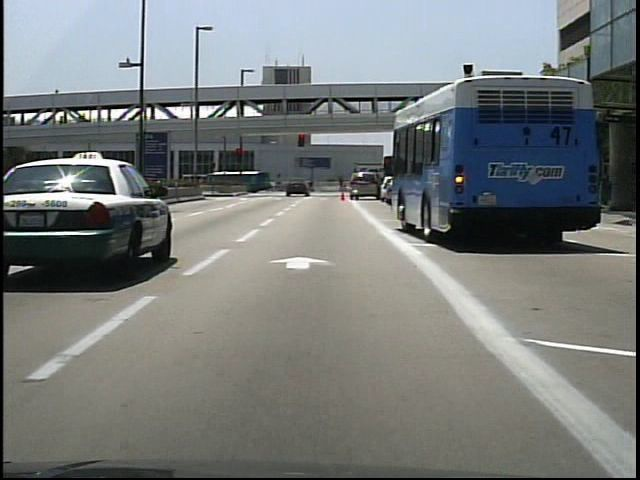person: (307, 179, 317, 194), (337, 177, 346, 192)
